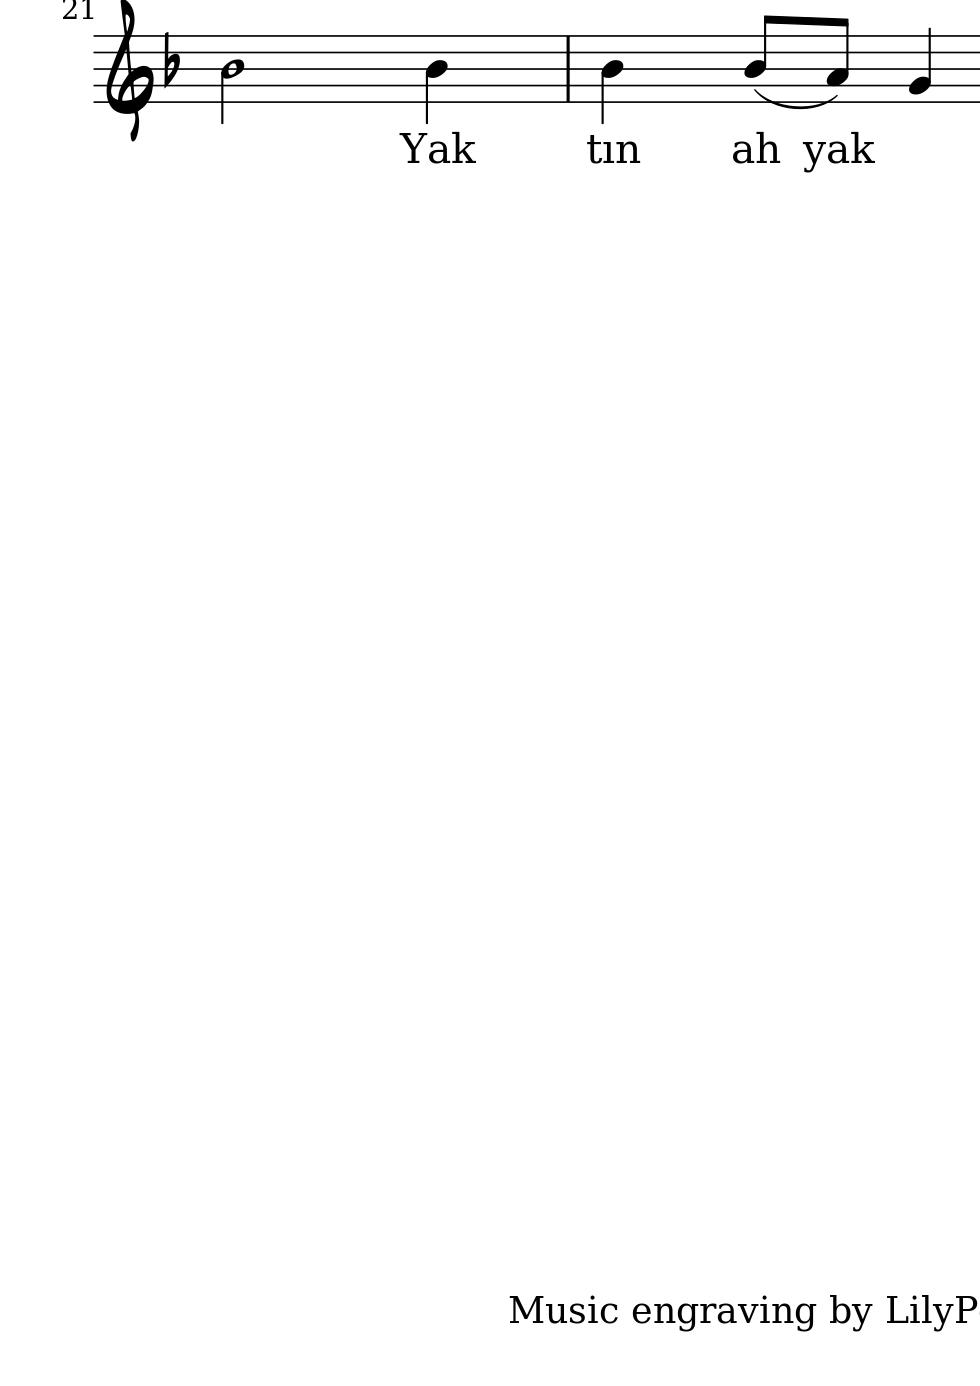1: (78, 1, 94, 22)
2: (59, 1, 78, 22)
2_4: (220, 34, 245, 126)
4_2: (908, 27, 932, 104)
4_4: (425, 34, 449, 126), (601, 33, 625, 125)
8_3: (827, 17, 850, 104)
8_4: (743, 14, 781, 103)
Flat: (163, 29, 181, 89)
Gclef: (107, 1, 154, 141)
Single_barline: (560, 35, 576, 102)
Slur: (752, 89, 840, 109)
